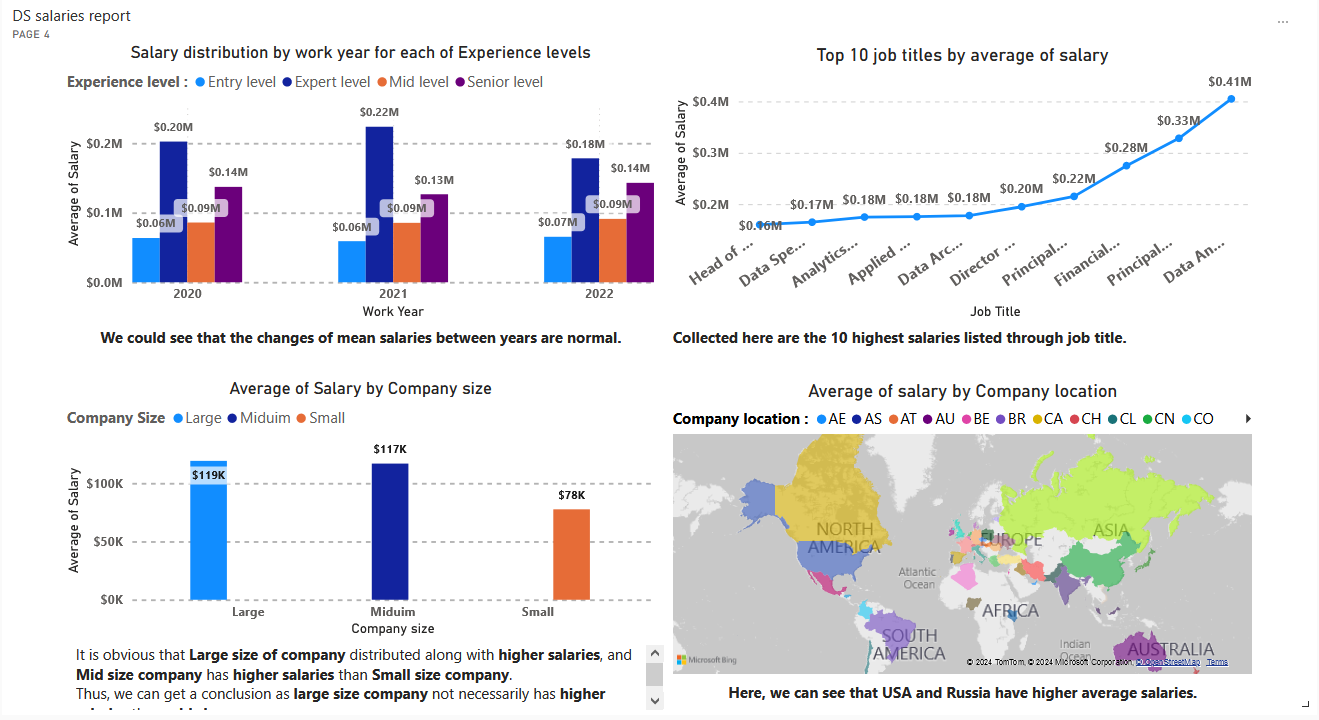

What the dashboard file says about the page in this screenshot:
{"tool":"powerbi","page":{"name":"Page 4","canvas":[1280,720],"ordinal":3},"visuals":[{"type":"lineClusteredColumnComboChart","title":"Salary distribution by work year for each of Experience levels","fields":{"Category":["DS Salaries.work_year"],"Y":["Avg(DS Salaries.salary_in_usd)"],"Series":["DS Salaries.experience_level"]},"box":[0,0,639.4,301],"z":0},{"type":"lineClusteredColumnComboChart","title":"Average of Salary  by Company size ","fields":{"Y":["Avg(DS Salaries.salary_in_usd)"],"Category":["DS Salaries.company_size"],"Series":["DS Salaries.company_size"]},"box":[0,360,639.4,280.8],"z":1000},{"type":"lineChart","title":"Top 10 job titles by average of salary","fields":{"Category":["DS Salaries.job_title"],"Y":["Avg(DS Salaries.salary_in_usd)"]},"box":[649.4,0,630.7,301],"z":2000},{"type":"filledMap","title":"Average of salary by Company location","fields":{"Series":["DS Salaries.company_location"],"Category":["DS Salaries.company_location"]},"box":[649.4,360,630.7,321.1],"z":3000},{"type":"textbox","box":[0,301,639.4,40.3],"z":4000},{"type":"textbox","box":[10.1,640.8,639.4,79.2],"z":5000},{"type":"textbox","box":[649.4,301,630.7,40.3],"z":6000},{"type":"textbox","box":[649.4,681.1,630.7,38.9],"z":7000}]}

Visuals, with their boxes on the page's 1280x720 design canvas (x1, y1, x2, y2). These are canvas units, not pixel positions in the 1319x720 screenshot, which may show the page scaled, cropped or inside an application window:
"Salary distribution by work year for each of Experience levels" lineClusteredColumnComboChart: (0, 0, 639, 301)
"Average of Salary  by Company size " lineClusteredColumnComboChart: (0, 360, 639, 641)
"Top 10 job titles by average of salary" lineChart: (649, 0, 1280, 301)
"Average of salary by Company location" filledMap: (649, 360, 1280, 681)
textbox: (0, 301, 639, 341)
textbox: (10, 641, 650, 720)
textbox: (649, 301, 1280, 341)
textbox: (649, 681, 1280, 720)
